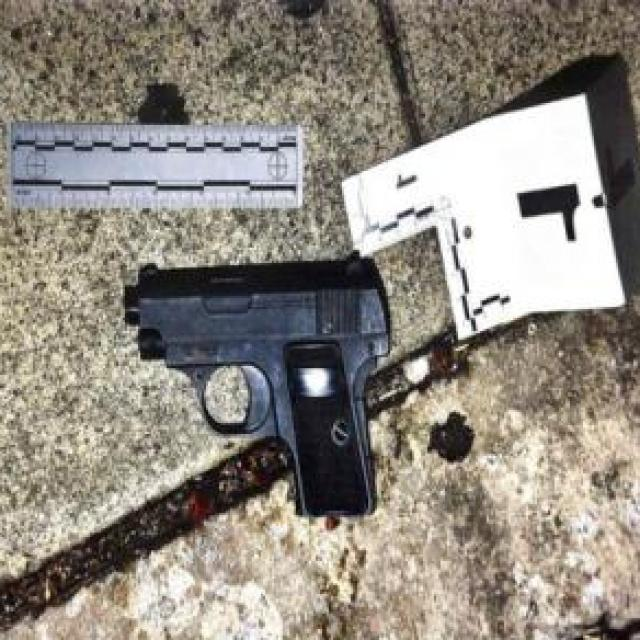pistol: (126, 256, 386, 518)
